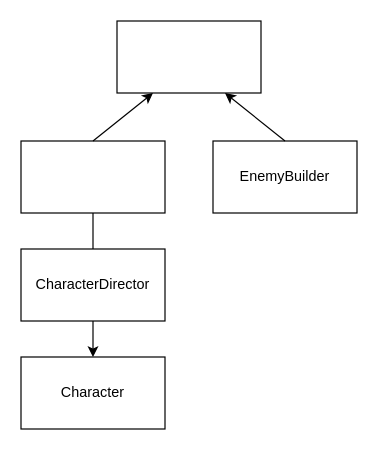
Some shapes in this 378 by 450 pixel diagram are drawn without their labels. Here are the shapes that lost their labels. From the top down, the centre of each, then its label:
(x=188, y=56): ICharacterBuilder
(x=92, y=176): HeroBuilder
